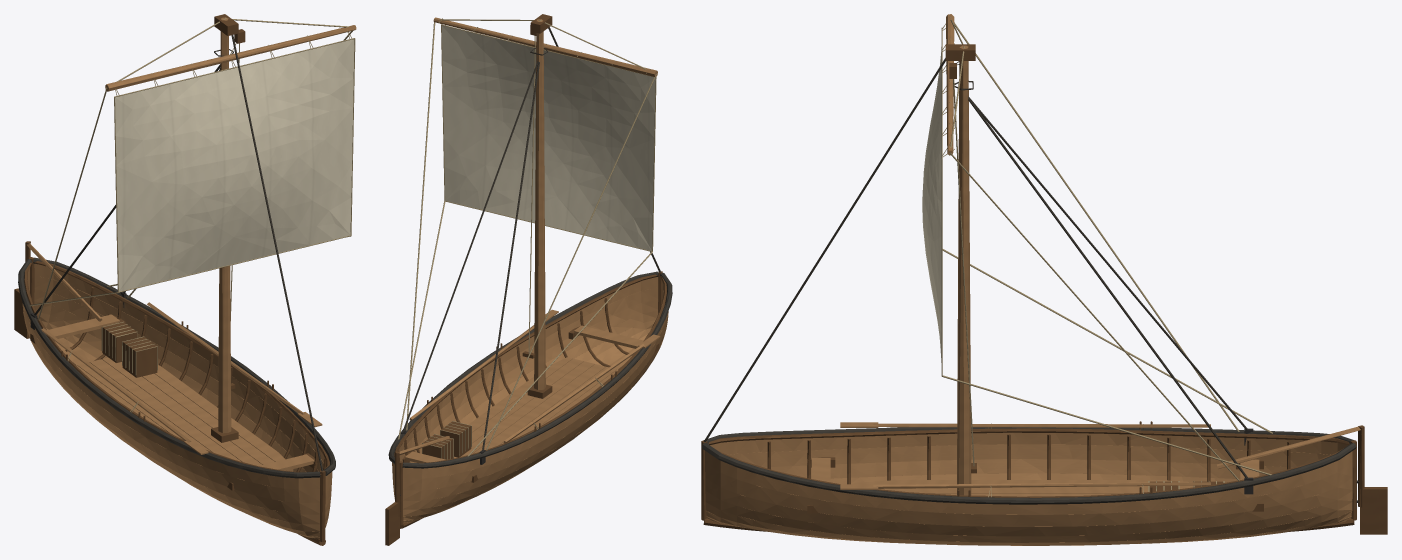
The model's file is ship_lod1.glb.
3 views of the same model, side by side, from view 1: azimuth 30°, elevation 25°; view 2: azimuth 150°, elevation 25°; view 3: azimuth 270°, elevation 25° (orthographic). The views are drawn at different scales.
Parts seen in each view (by area): view 1: lod1_square_sail, lod1_strake_port_07, lod1_strake_starboard_07, lod1_strake_starboard_08, lod1_strake_port_06, lod1_gunwale_1_001, lod1_strake_port_08, lod1_strake_starboard_06, lod1_mast, lod1_yard, lod1_strake_port_05, lod1_sole_board_03 (+22 smaller); view 2: lod1_square_sail, lod1_mast, lod1_strake_port_07, lod1_strake_starboard_07, lod1_strake_port_06, lod1_strake_starboard_08, lod1_strake_port_08, lod1_gunwale_1_001, lod1_strake_starboard_06, lod1_strake_port_05, lod1_yard, lod1_sole_board_03 (+23 smaller); view 3: lod1_strake_port_07, lod1_strake_starboard_07, lod1_strake_port_08, lod1_strake_port_06, lod1_strake_starboard_08, lod1_strake_starboard_06, lod1_strake_port_05, lod1_mast, lod1_gunwale_1, lod1_square_sail, lod1_strake_port_04, lod1_inwale_1_001 (+17 smaller).
Part boxes in pixels (x1=…): lod1_square_sail: x1=115, y1=39, x2=354, y2=291; lod1_strake_port_07: x1=34, y1=276, x2=331, y2=499; lod1_strake_starboard_07: x1=22, y1=277, x2=319, y2=502; lod1_strake_starboard_08: x1=23, y1=268, x2=319, y2=489; lod1_strake_port_06: x1=34, y1=289, x2=331, y2=511; lod1_gunwale_1_001: x1=18, y1=259, x2=320, y2=478; lod1_strake_port_08: x1=34, y1=263, x2=332, y2=486; lod1_strake_starboard_06: x1=23, y1=291, x2=319, y2=514; lod1_mast: x1=218, y1=17, x2=231, y2=433; lod1_yard: x1=105, y1=25, x2=356, y2=91; lod1_strake_port_05: x1=34, y1=301, x2=329, y2=521; lod1_sole_board_03: x1=89, y1=359, x2=241, y2=461; lod1_square_sail: x1=441, y1=25, x2=655, y2=250; lod1_mast: x1=534, y1=19, x2=545, y2=390; lod1_strake_port_07: x1=392, y1=287, x2=658, y2=484; lod1_strake_starboard_07: x1=403, y1=289, x2=668, y2=490; lod1_strake_port_06: x1=393, y1=299, x2=658, y2=494; lod1_strake_starboard_08: x1=403, y1=281, x2=667, y2=478; lod1_strake_port_08: x1=392, y1=277, x2=658, y2=473; lod1_gunwale_1_001: x1=402, y1=272, x2=672, y2=468; lod1_strake_starboard_06: x1=403, y1=301, x2=667, y2=500; lod1_strake_port_05: x1=394, y1=310, x2=658, y2=498; lod1_yard: x1=433, y1=17, x2=657, y2=76; lod1_sole_board_03: x1=473, y1=364, x2=605, y2=453; lod1_strake_port_07: x1=705, y1=462, x2=1352, y2=526; lod1_strake_starboard_07: x1=727, y1=444, x2=1330, y2=467; lod1_strake_port_08: x1=705, y1=451, x2=1352, y2=514; lod1_strake_port_06: x1=705, y1=477, x2=1352, y2=536; lod1_strake_starboard_08: x1=710, y1=432, x2=1347, y2=454; lod1_strake_starboard_06: x1=764, y1=459, x2=1293, y2=478; lod1_strake_port_05: x1=705, y1=491, x2=1352, y2=542; lod1_mast: x1=957, y1=45, x2=971, y2=495; lod1_gunwale_1: x1=701, y1=443, x2=1356, y2=504; lod1_square_sail: x1=922, y1=47, x2=941, y2=362; lod1_strake_port_04: x1=705, y1=502, x2=1352, y2=545; lod1_inwale_1_001: x1=708, y1=428, x2=1349, y2=445.
Bounding box in the file's own units: 3.22 × 5.52 × 6.87.
Materials: 7 (7 with a texture image).
